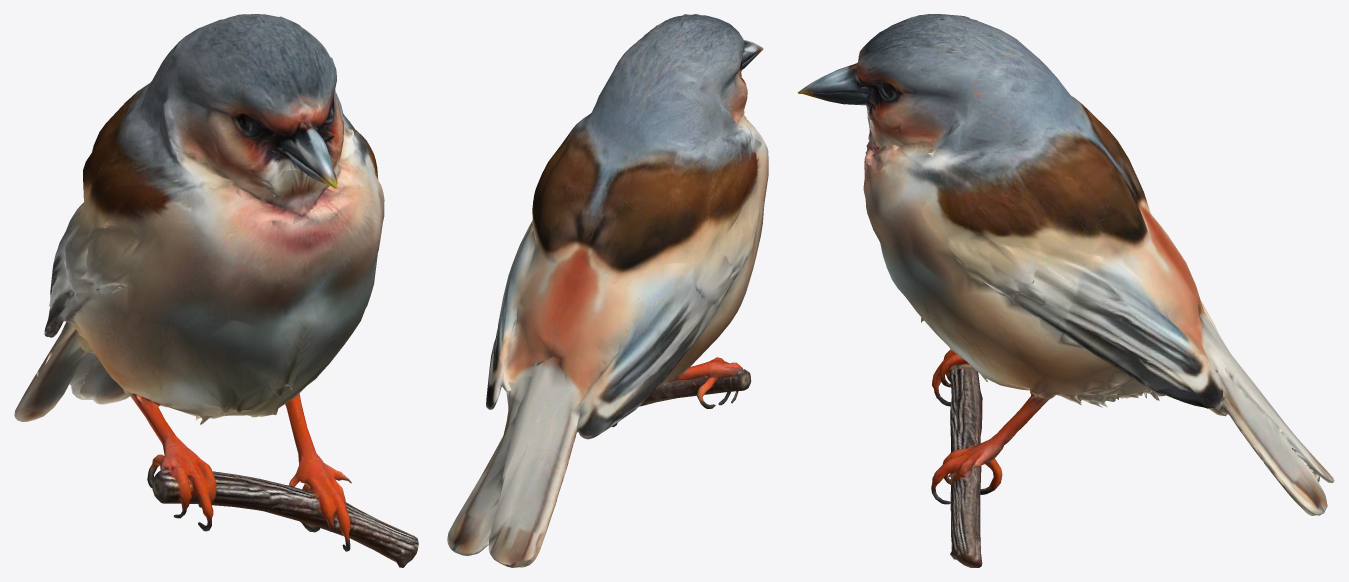
Rendered from bird-vink.glb.
The picture shows the model from 3 angles, left to right: view 1: azimuth 30°, elevation 25°; view 2: azimuth 150°, elevation 25°; view 3: azimuth 270°, elevation 25°; orthographic projection. The views are drawn at different scales.
Size of the model in its own units: 0.9949 by 1.91 by 1.91.
Materials: 1 (1 with a texture image).
